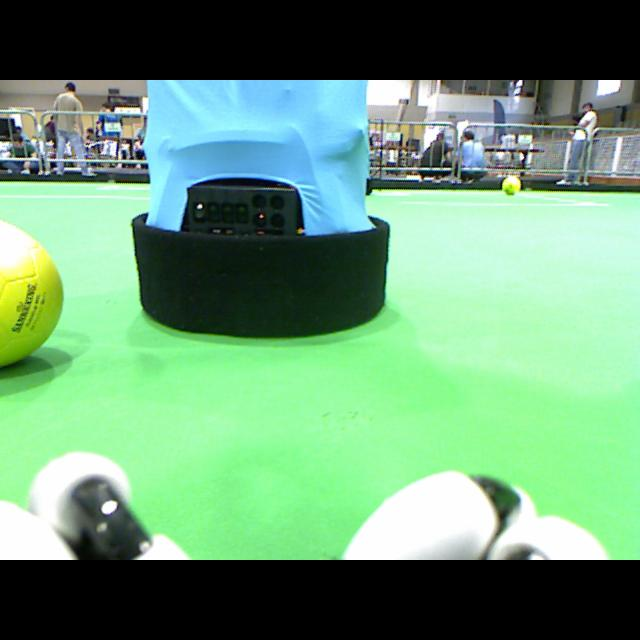ball: (0, 222, 63, 372), (503, 176, 522, 194)
